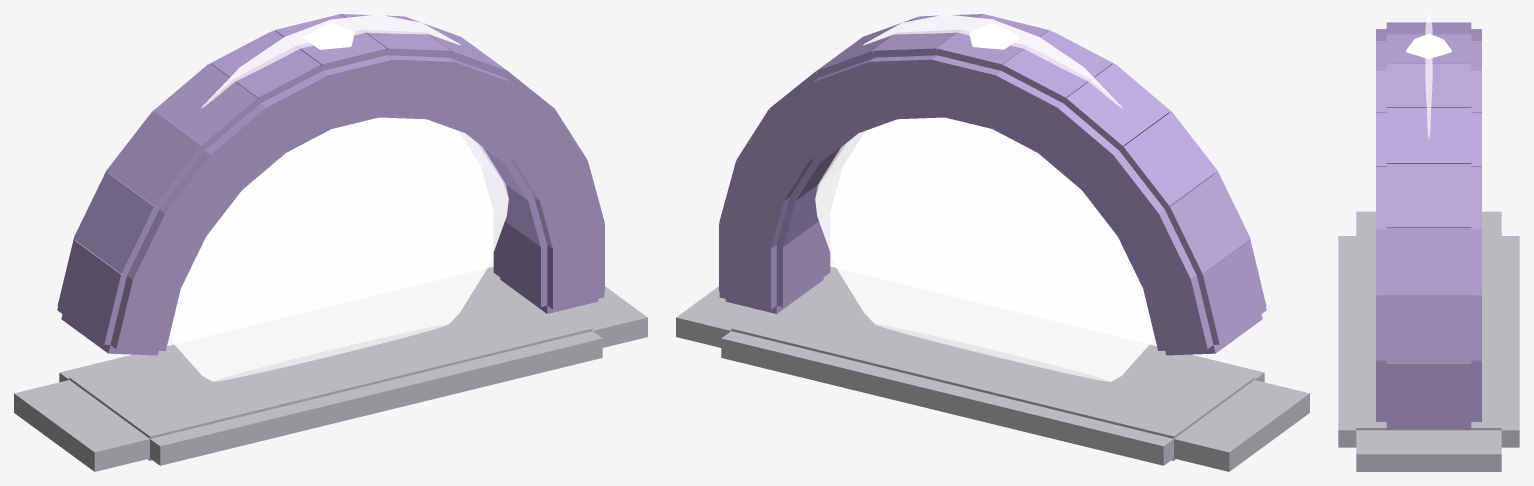
The model's file is build_portal_cosmic.glb.
3 views of the same model, side by side, from view 1: azimuth 30°, elevation 25°; view 2: azimuth 150°, elevation 25°; view 3: azimuth 270°, elevation 25° (orthographic). The views are drawn at different scales.
Visible parts, largest first — view 1: box; view 2: box; view 3: box.
Boxes of the visible parts, x1=… form: box: x1=14, y1=14, x2=647, y2=471; box: x1=676, y1=14, x2=1309, y2=471; box: x1=1338, y1=14, x2=1519, y2=471.
Size of the model in its own units: 3.8 by 2.5 by 1.2.
